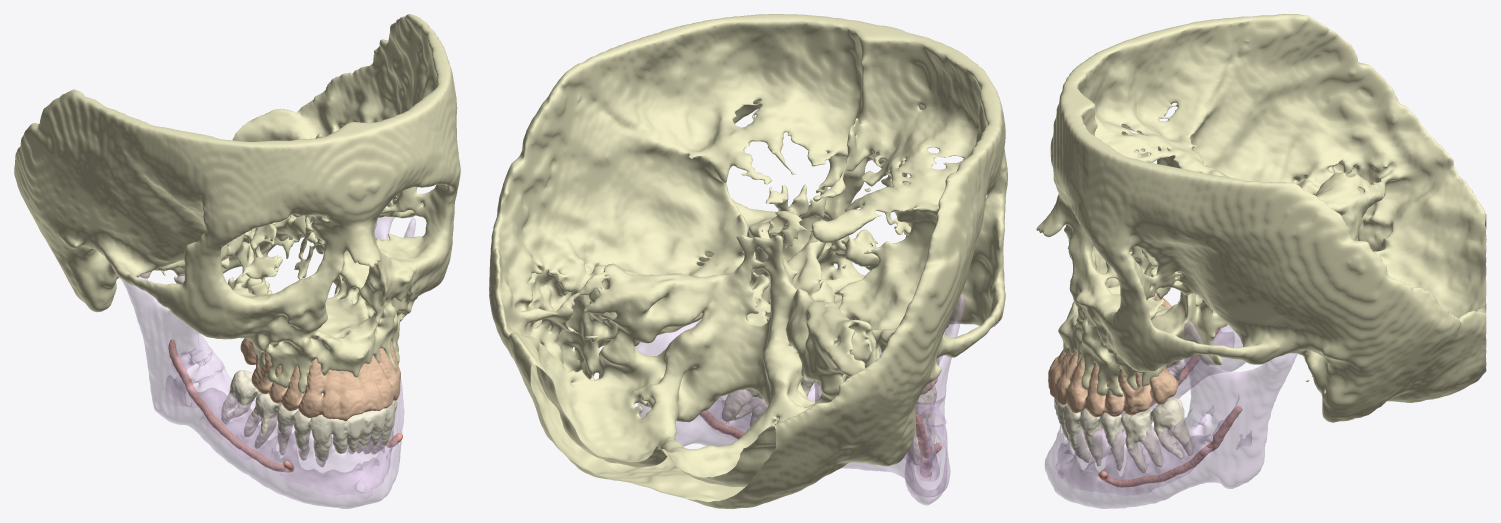
File: PostDentalSurgery_scene.glb
3 views of the same model, side by side, from view 1: azimuth 30°, elevation 25°; view 2: azimuth 150°, elevation 25°; view 3: azimuth 270°, elevation 25° (orthographic). The views are drawn at different scales.
Parts seen in each view (by area): view 1: maxilla_upper_skull, mandible, lower_teeth, upper_teeth, mandibular_canal; view 2: maxilla_upper_skull, mandible, lower_teeth, mandibular_canal; view 3: maxilla_upper_skull, mandible, lower_teeth, upper_teeth, mandibular_canal.
Boxes of the visible parts, x1=… form: maxilla_upper_skull: x1=14, y1=14, x2=460, y2=393; mandible: x1=120, y1=216, x2=415, y2=508; lower_teeth: x1=221, y1=370, x2=397, y2=467; upper_teeth: x1=240, y1=329, x2=400, y2=421; mandibular_canal: x1=168, y1=339, x2=402, y2=472; maxilla_upper_skull: x1=489, y1=14, x2=1007, y2=508; mandible: x1=635, y1=294, x2=965, y2=505; lower_teeth: x1=721, y1=376, x2=936, y2=464; mandibular_canal: x1=699, y1=410, x2=941, y2=477; maxilla_upper_skull: x1=1036, y1=14, x2=1486, y2=422; mandible: x1=1044, y1=311, x2=1297, y2=508; lower_teeth: x1=1054, y1=360, x2=1192, y2=472; upper_teeth: x1=1048, y1=292, x2=1178, y2=417; mandibular_canal: x1=1098, y1=328, x2=1242, y2=487.
Bounding box in the file's own units: 145 × 142 × 149.
